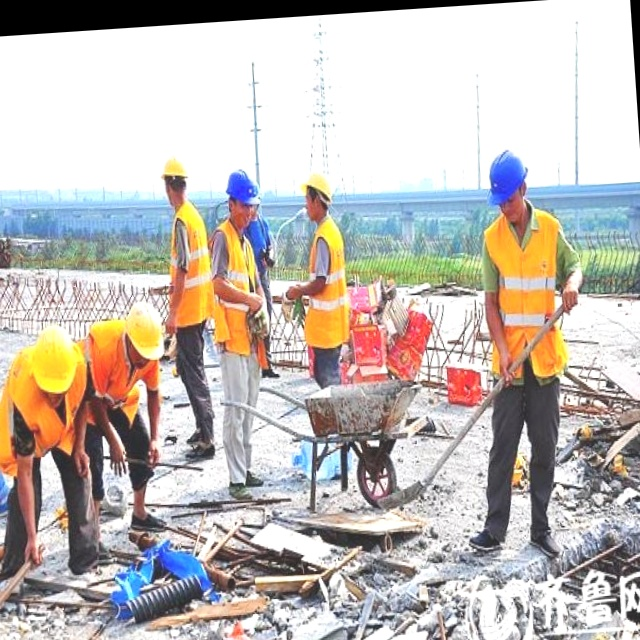Con_Chaleco: (482, 212, 572, 383), (299, 217, 353, 350), (210, 225, 262, 356), (165, 204, 215, 326)
